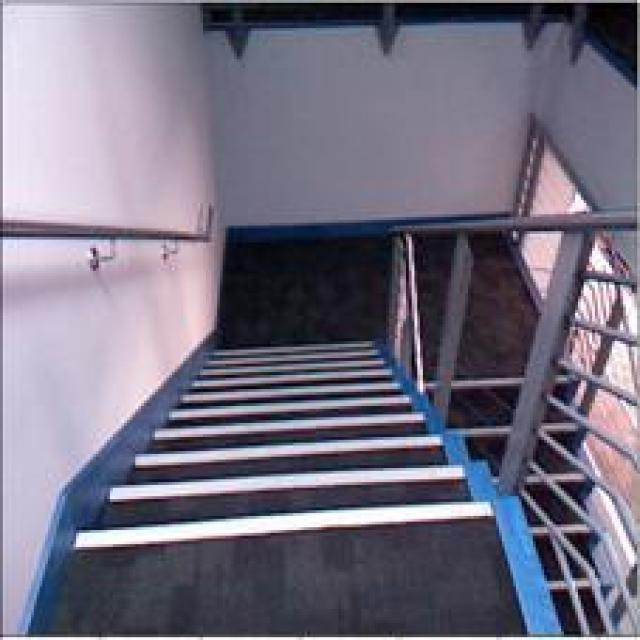downstair: (52, 401, 492, 596)
